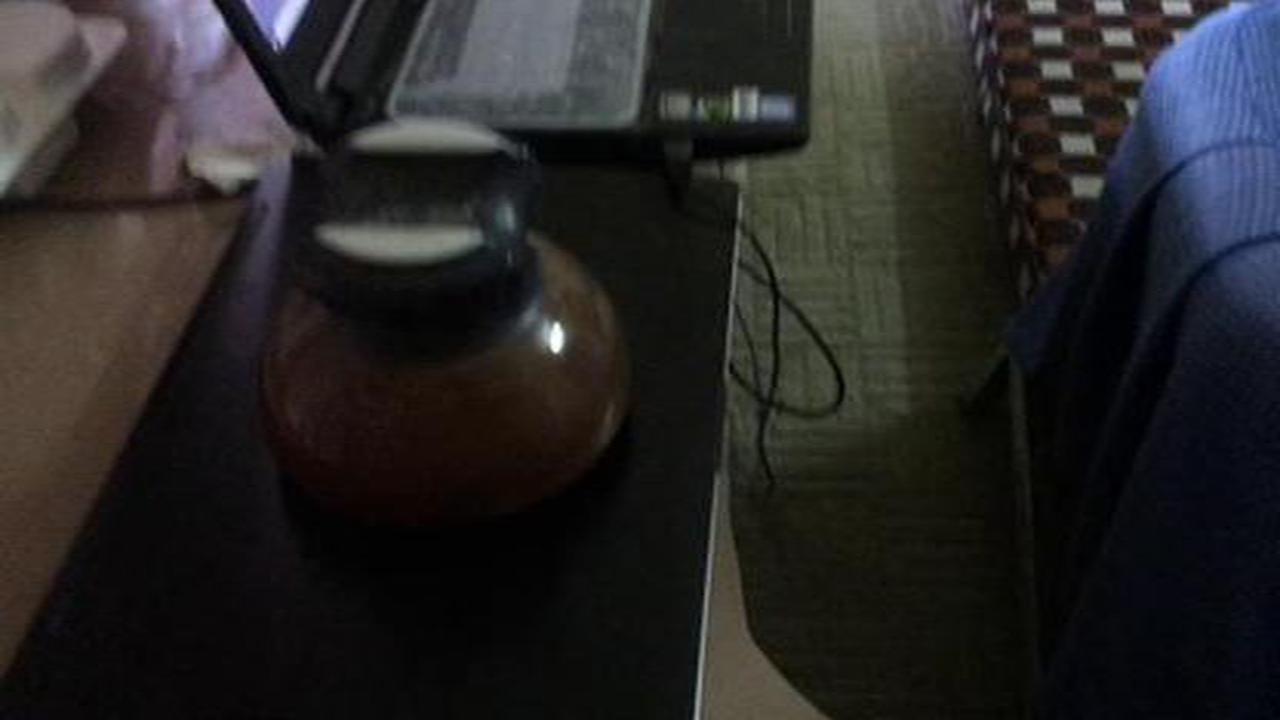insulator_pin: (225, 110, 665, 542)
